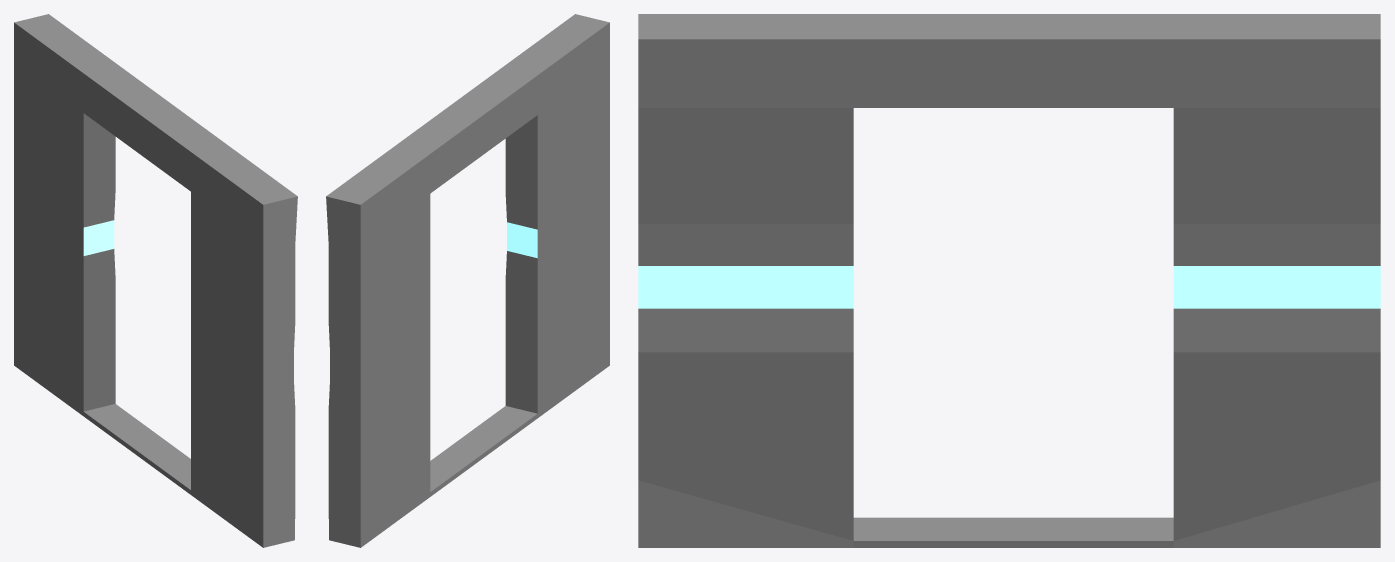
The model's file is SciFiWallPanelDoor_2.fbx.
3 renders of one model, left to right at view 1: azimuth 30°, elevation 25°; view 2: azimuth 150°, elevation 25°; view 3: azimuth 270°, elevation 25°, orthographic. The views are drawn at different scales.
Visible parts, largest first — view 1: SciFiWallPanel; view 2: SciFiWallPanel; view 3: SciFiWallPanel.
Part boxes in pixels (x1=…): SciFiWallPanel: x1=14, y1=14, x2=297, y2=547; SciFiWallPanel: x1=326, y1=14, x2=609, y2=547; SciFiWallPanel: x1=638, y1=14, x2=1380, y2=547.
Bounding box in the file's own units: 58.2 × 550 × 725.
